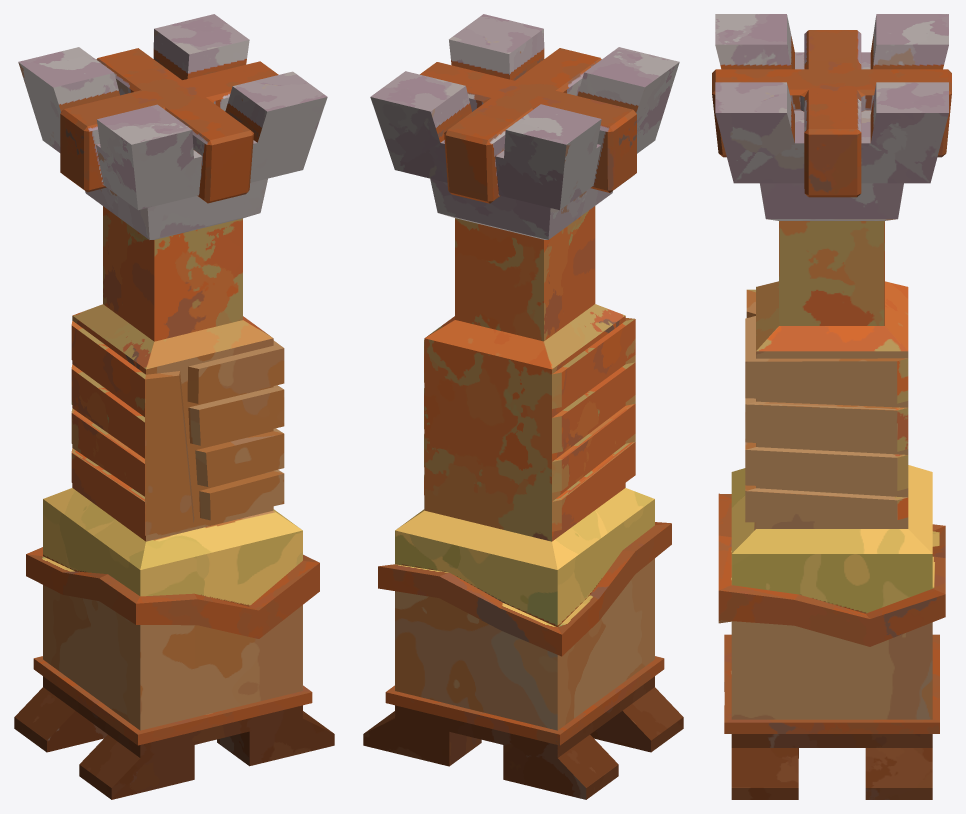
The model's file is edge column mix.fbx.
3 renders of one model, left to right at view 1: azimuth 30°, elevation 25°; view 2: azimuth 150°, elevation 25°; view 3: azimuth 270°, elevation 25°, orthographic. The views are drawn at different scales.
Parts seen in each view (by area): view 1: edge column up_uv.001; view 2: edge column up_uv.001; view 3: edge column up_uv.001.
Boxes of the visible parts, <box> form: edge column up_uv.001: <box>14,14,334,799</box>; edge column up_uv.001: <box>363,14,683,799</box>; edge column up_uv.001: <box>712,14,951,799</box>.
Size of the model in its own units: 373 by 1053 by 337.
1 material, 1 textured.
